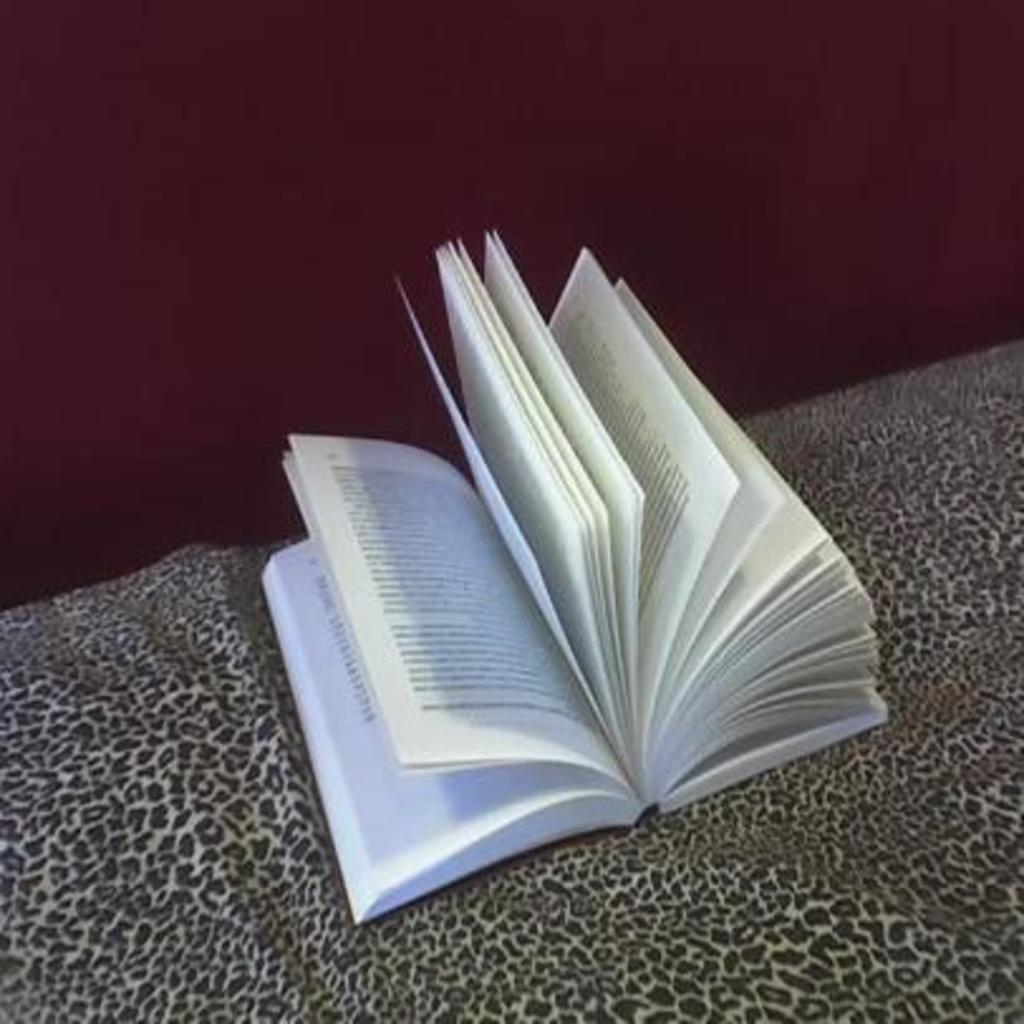book: (250, 219, 921, 933)
